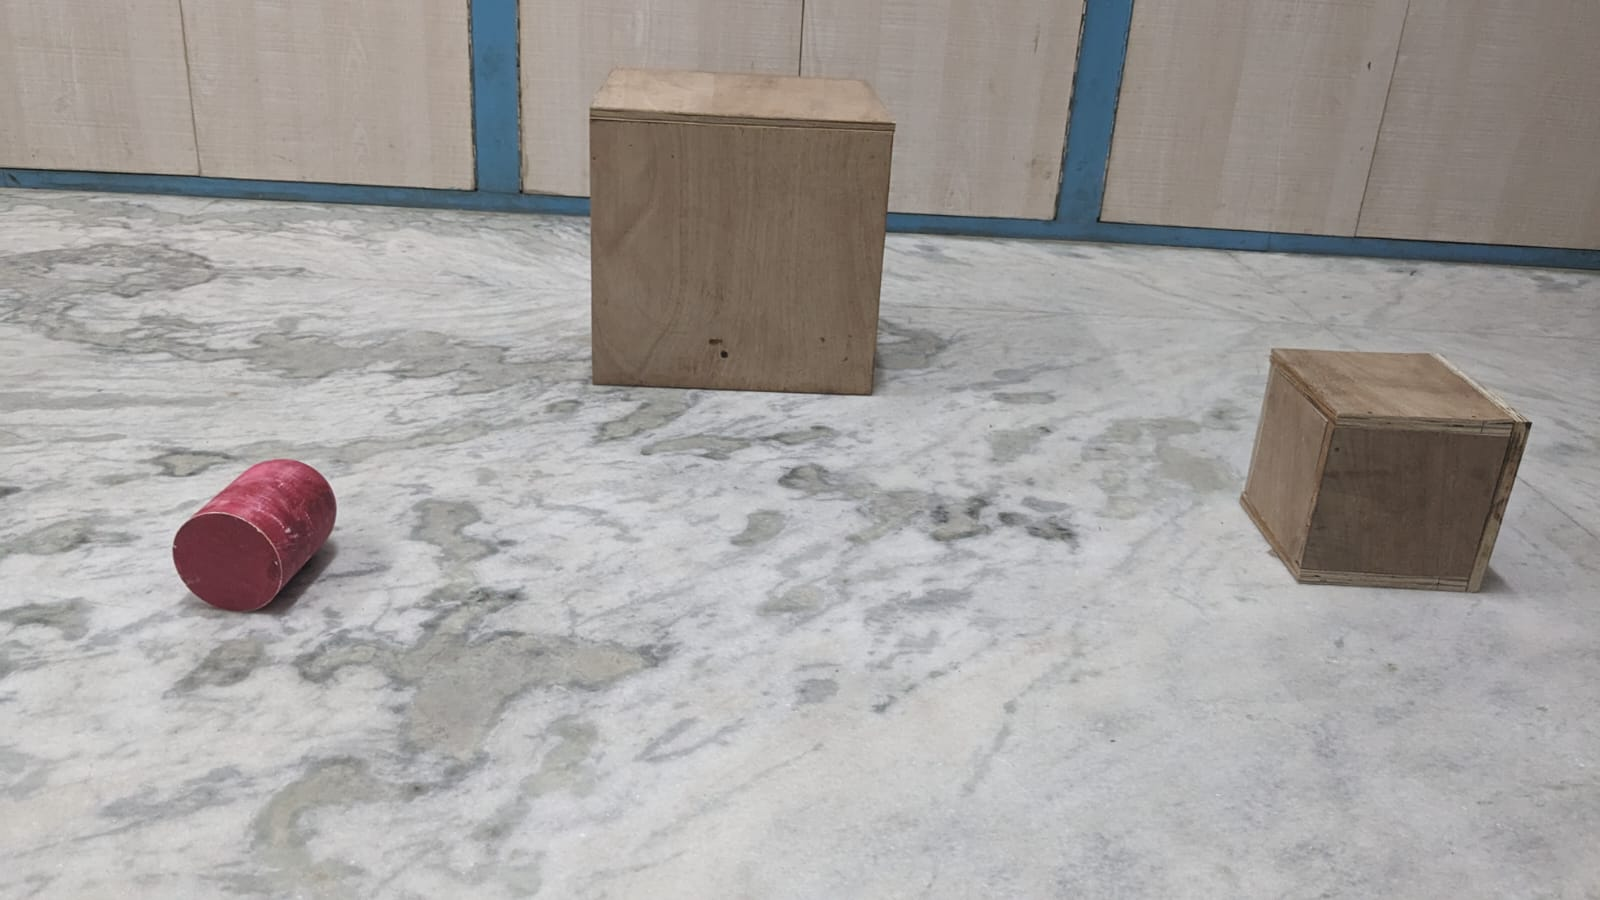150mm obstacle: (1225, 331, 1540, 603)
300mm obstacle: (553, 45, 912, 413)
testtube: (167, 441, 355, 632)
